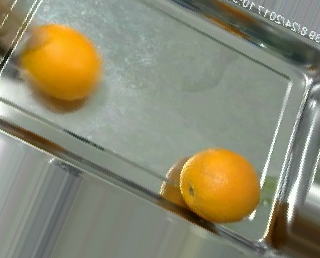Orange: (179, 147, 262, 222), (22, 24, 101, 101)
